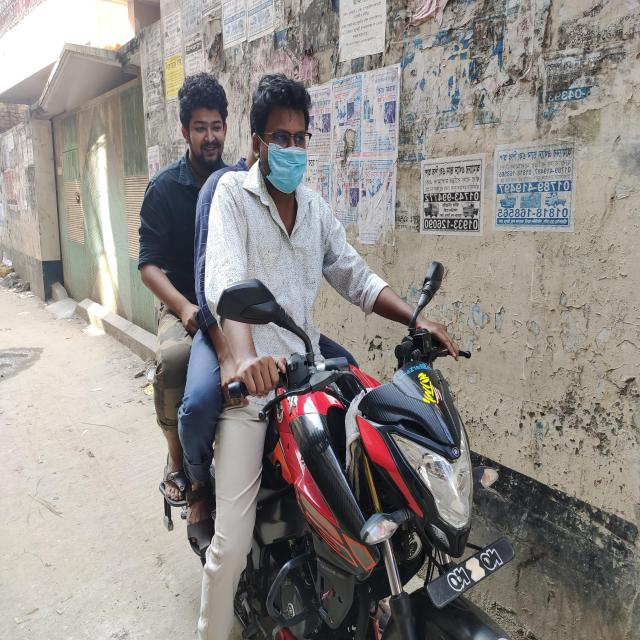triple_rider: (136, 70, 519, 640)
